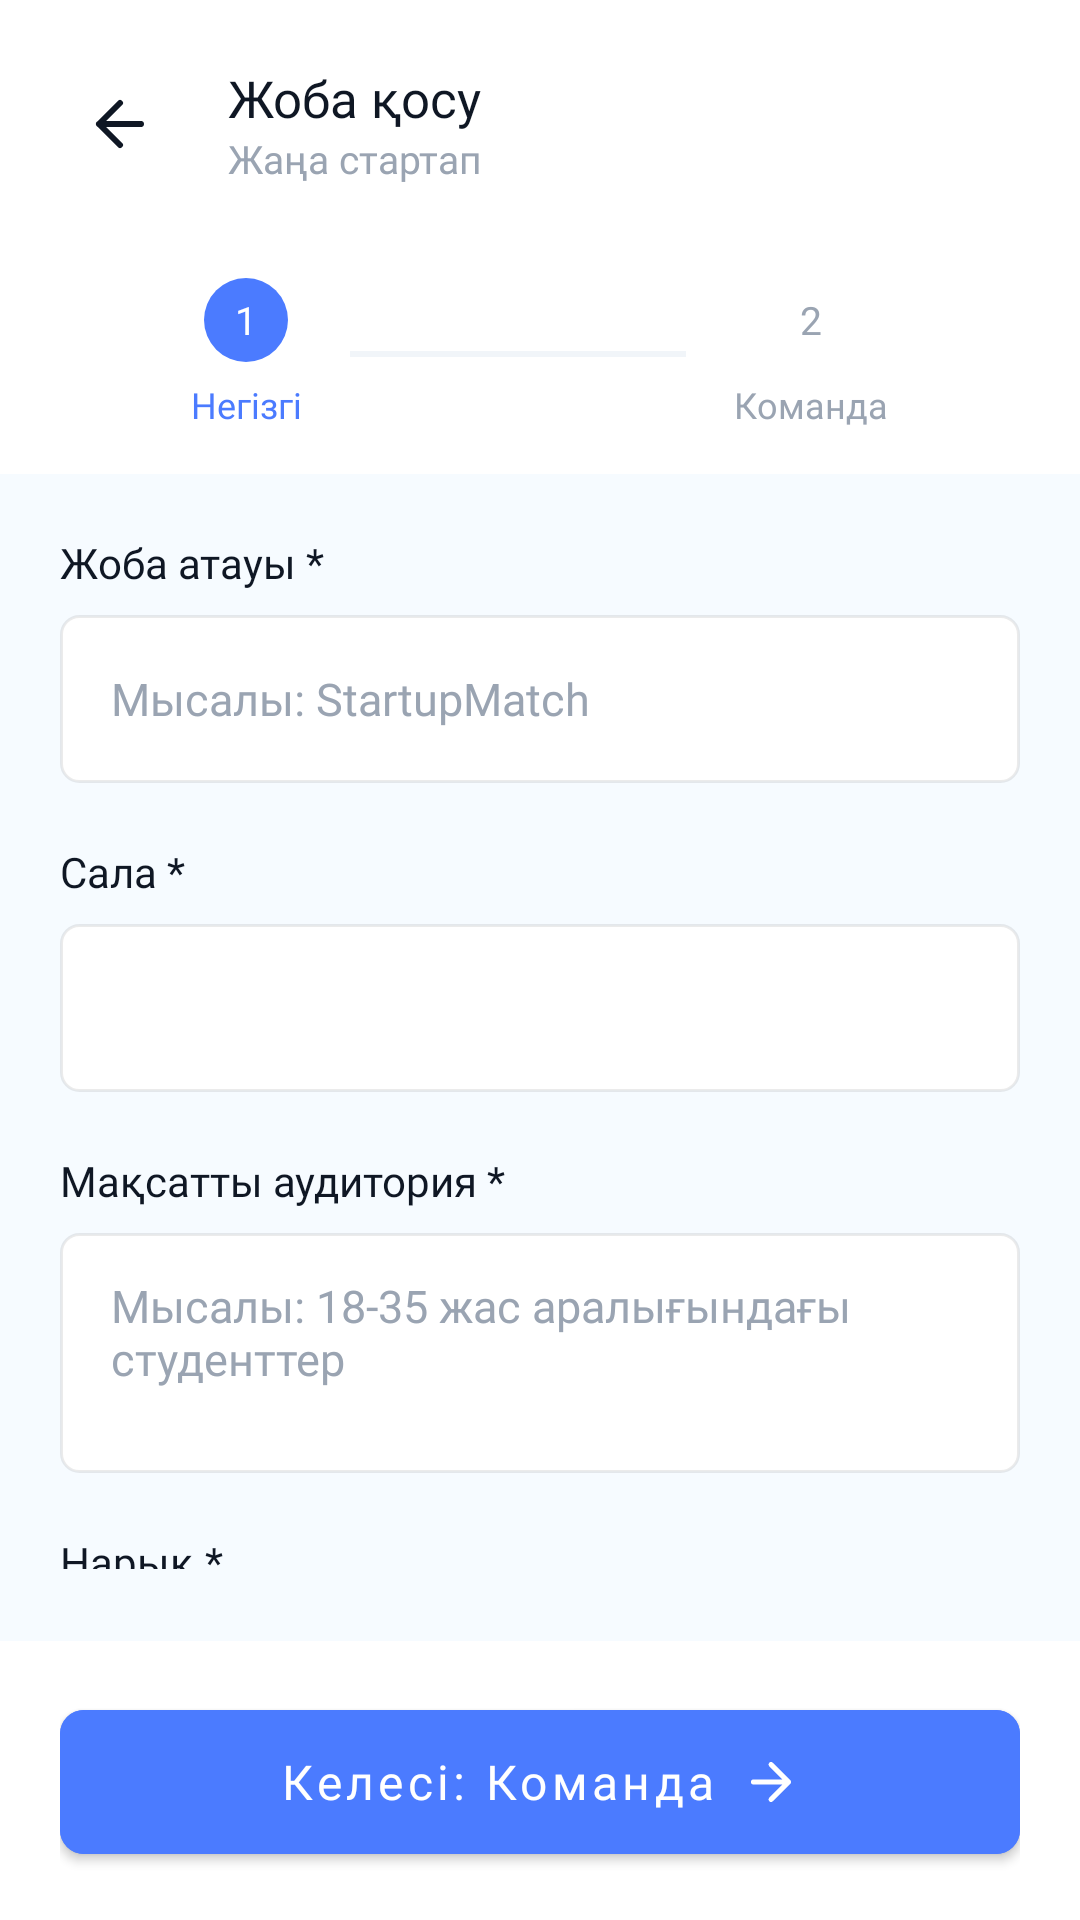

Point at icon controls on the screen. Image size 1080x1920, points as (x,y).
add project back: (120,124)
